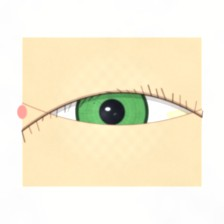pinguecula_lesion: (153, 94, 204, 135)
